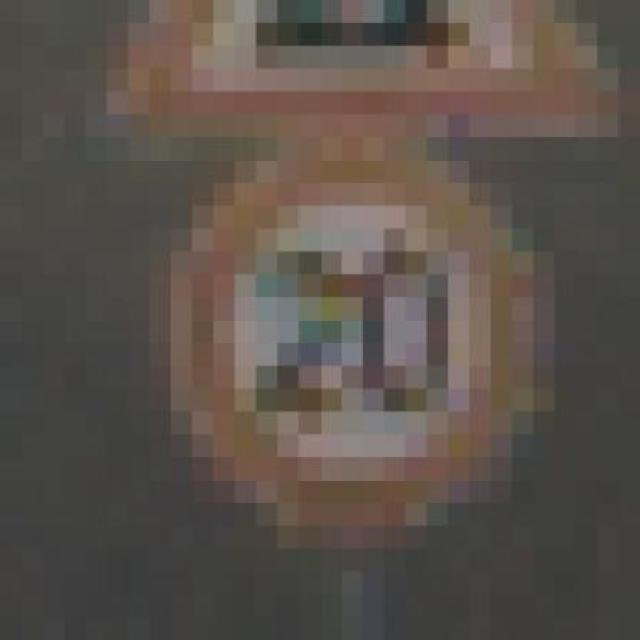forb_speed_over_20: (230, 181, 488, 505)
